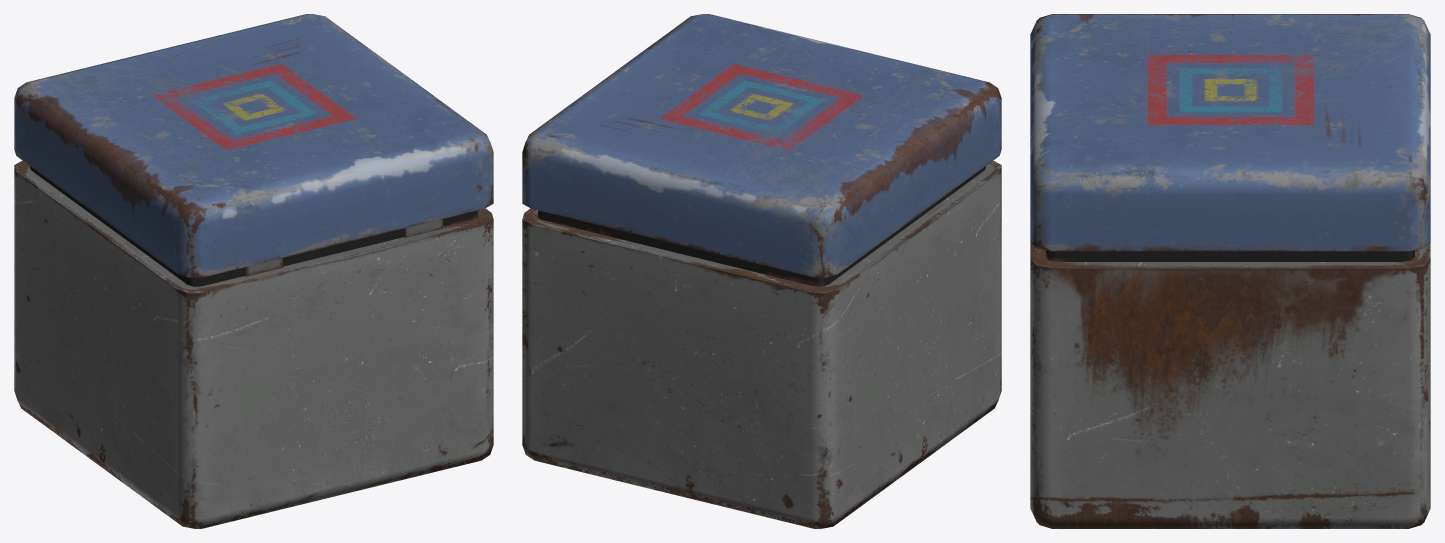
Rendered from BoxPush.fbx.
3 renders of one model, left to right at view 1: azimuth 30°, elevation 25°; view 2: azimuth 150°, elevation 25°; view 3: azimuth 270°, elevation 25°, orthographic. The views are drawn at different scales.
Visible parts, largest first — view 1: SM_PullableBox.mo; view 2: SM_PullableBox.mo; view 3: SM_PullableBox.mo.
Boxes of the visible parts, x1,y1,x2,y2 form: SM_PullableBox.mo: (14,14,493,528); SM_PullableBox.mo: (522,14,1001,528); SM_PullableBox.mo: (1030,14,1430,528).
Size of the model in its own units: 150 by 150 by 150.
